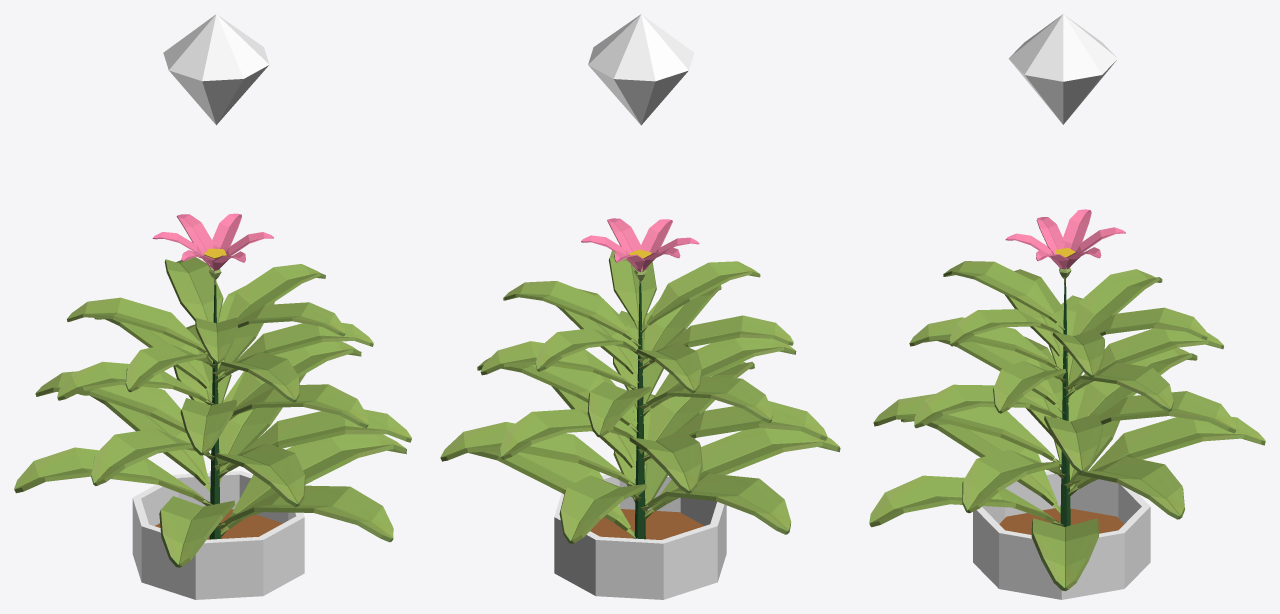
File: soft.glb
3 views of the same model, side by side, from view 1: azimuth 30°, elevation 25°; view 2: azimuth 150°, elevation 25°; view 3: azimuth 270°, elevation 25° (orthographic).
Visible parts, largest first — view 1: Cone; view 2: Cone; view 3: Cone.
Boxes of the visible parts, box(x1,y1,x2,y2) form: Cone: box(14, 14, 411, 599); Cone: box(440, 14, 840, 599); Cone: box(869, 14, 1265, 599).
Bounding box in the file's own units: 3.58 × 5.14 × 3.38.
3 materials, 1 textured.
